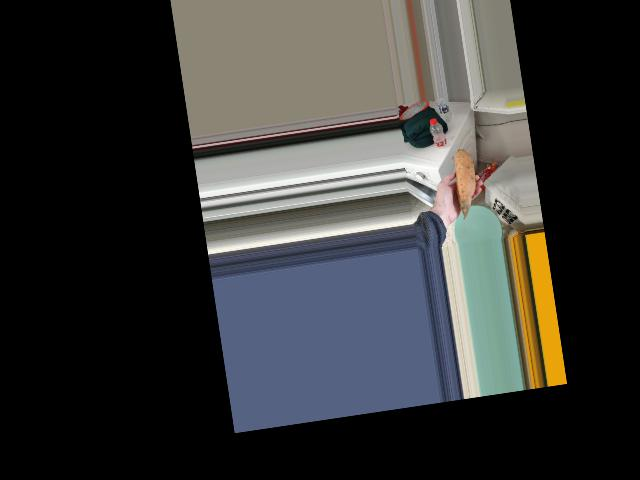sweet_potato: (450, 154, 476, 216)
